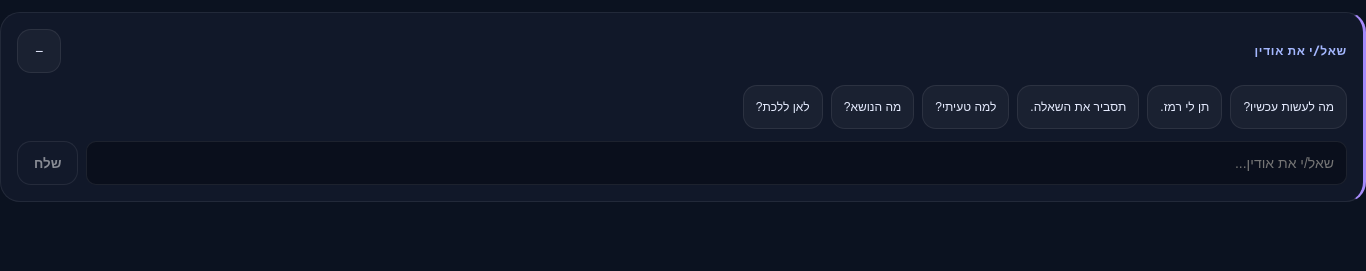
AskOdinPanel (general educational assistant pass) › free-text input › answers a subject question directly available from the authored content
The image size is (1366, 271).
Type "מי היה אוגוסטוס?" into the field with test id "ask-odin-free-text-input" at (717, 163), box top-left (86, 141), bottom-right (1347, 185)
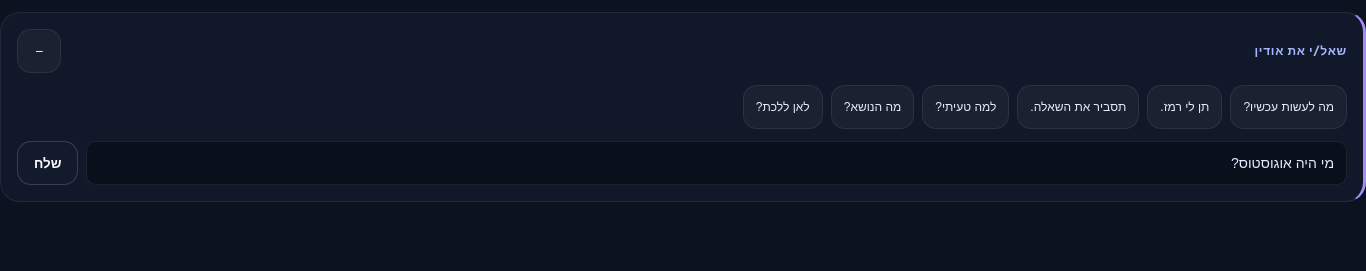
Click the button with test id "ask-odin-free-text-submit" at (48, 163), box top-left (17, 141), bottom-right (78, 185)
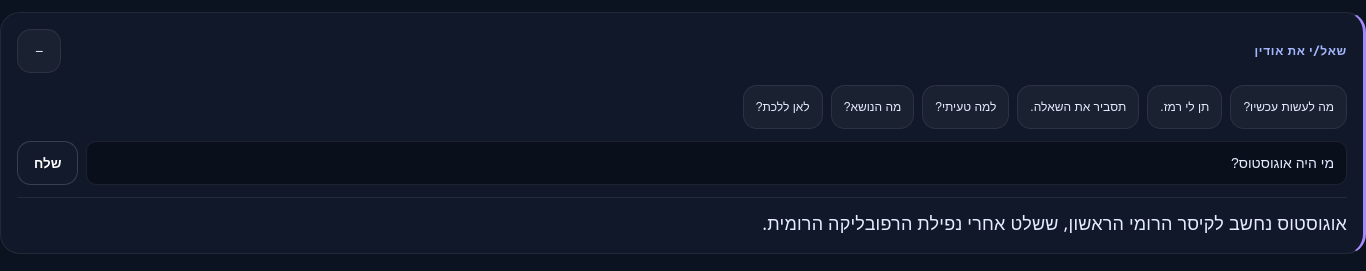
Result: the text with test id "ask-odin-answer" reads "אוגוסטוס נחשב לקיסר הרומי הראשון, ששלט אחרי נפילת הרפובליקה הרומית." at top-left (762, 211), bottom-right (1347, 235)
